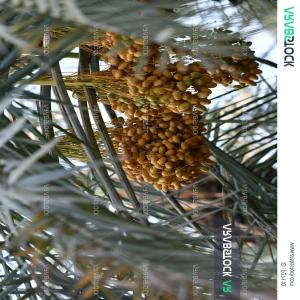palm tree: (1, 0, 277, 300)
